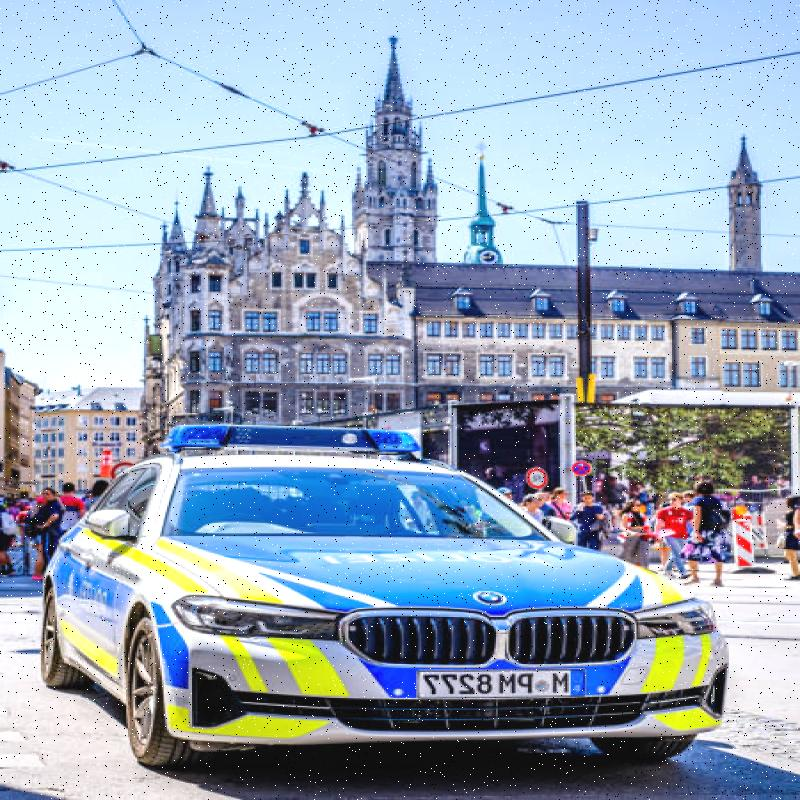AmbulanceSiren: (118, 404, 433, 462)
